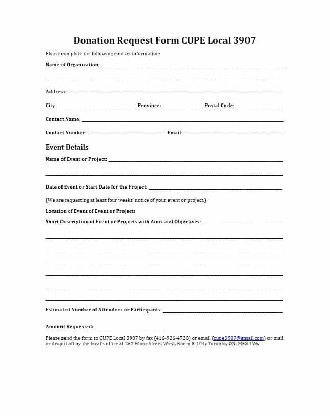textline: (43, 228, 285, 241), (44, 69, 284, 82), (43, 165, 285, 177), (41, 266, 286, 277), (43, 254, 287, 265), (41, 279, 285, 290), (66, 84, 285, 96), (39, 293, 286, 303), (43, 243, 286, 253), (80, 112, 286, 123), (107, 152, 283, 164), (99, 58, 284, 69), (147, 179, 285, 191), (161, 304, 284, 315), (182, 124, 286, 137), (55, 99, 137, 110), (85, 126, 167, 137), (201, 216, 283, 226), (93, 321, 167, 331), (234, 98, 284, 110), (161, 99, 204, 110)
